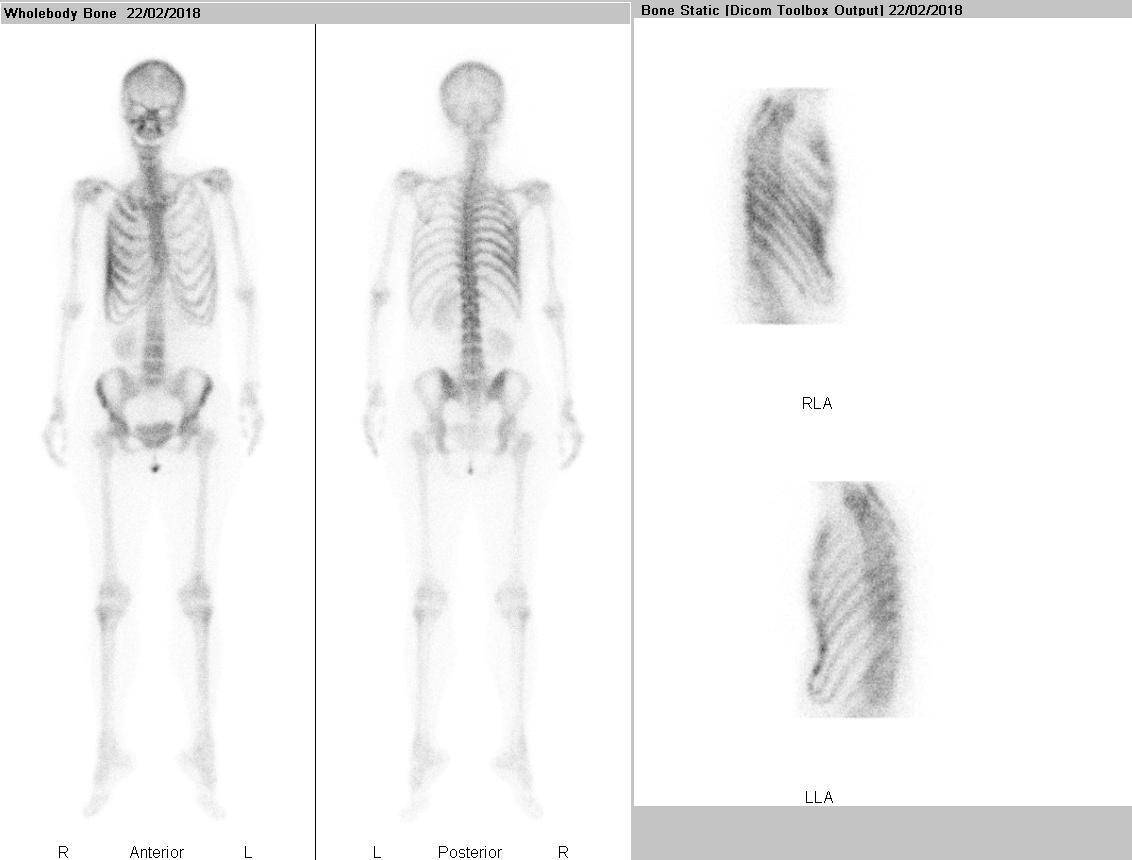person: (1, 24, 629, 860)
